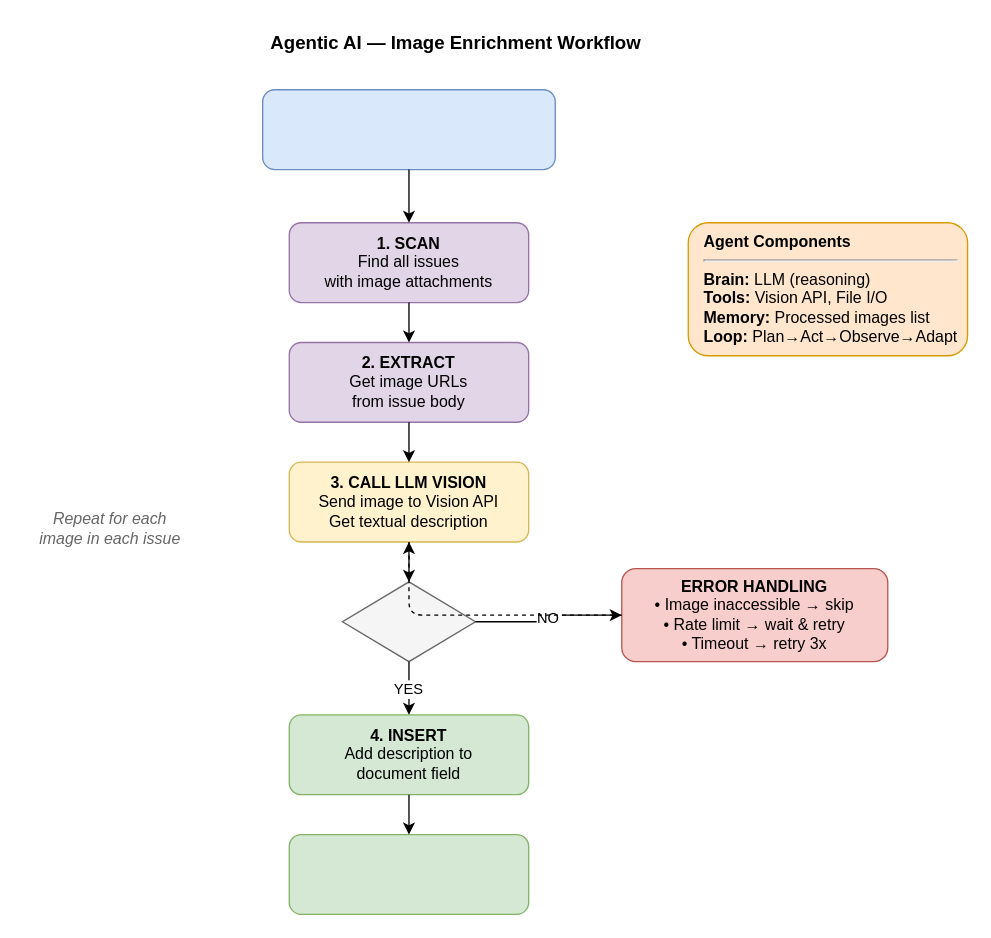
This 991x938 diagram has some shape labels left out. Here are the shapes that lost their labels. From the top down, the centre of each, then its label:
the point at 408,129: OBJECTIVE "For each issue with images, generate a textual description"
the point at 408,621: Success?
the point at 408,873: 5. VERIFY Check coherence of final result
